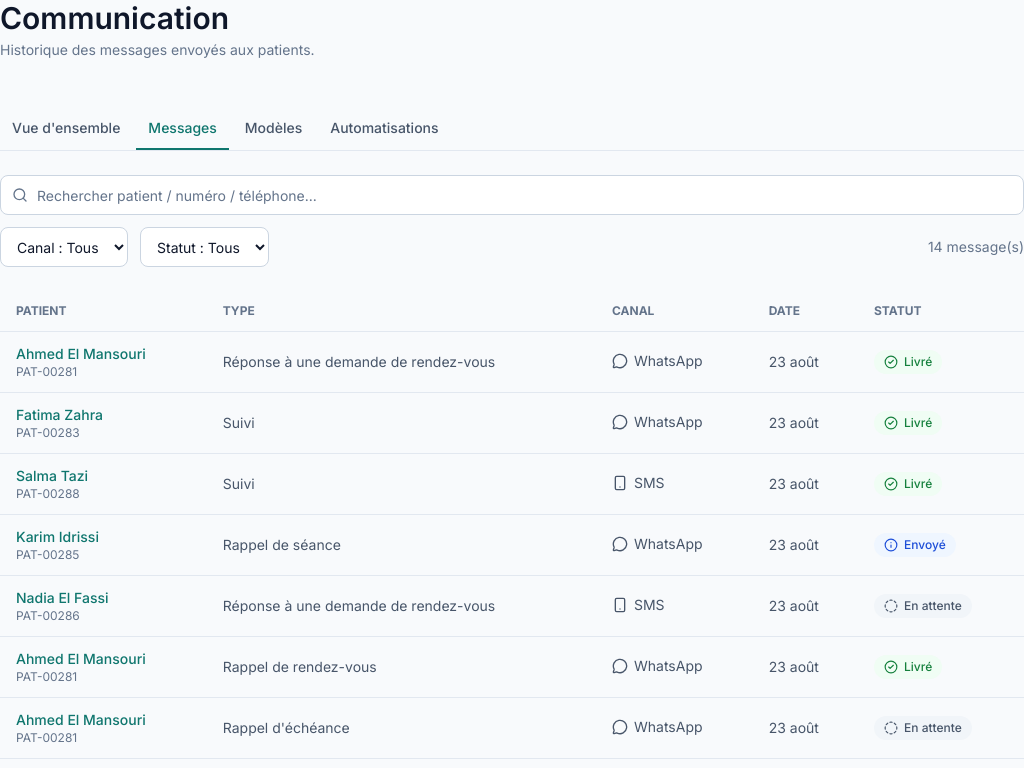
Test: MessagesPage › retrying a failed message re-queues it, closes the drawer, and updates the list
The image size is (1024, 768).
Select "Échec" in the dropdown named "Filtrer par statut" at point(204, 247), box top-left (140, 227), bottom-right (269, 267)
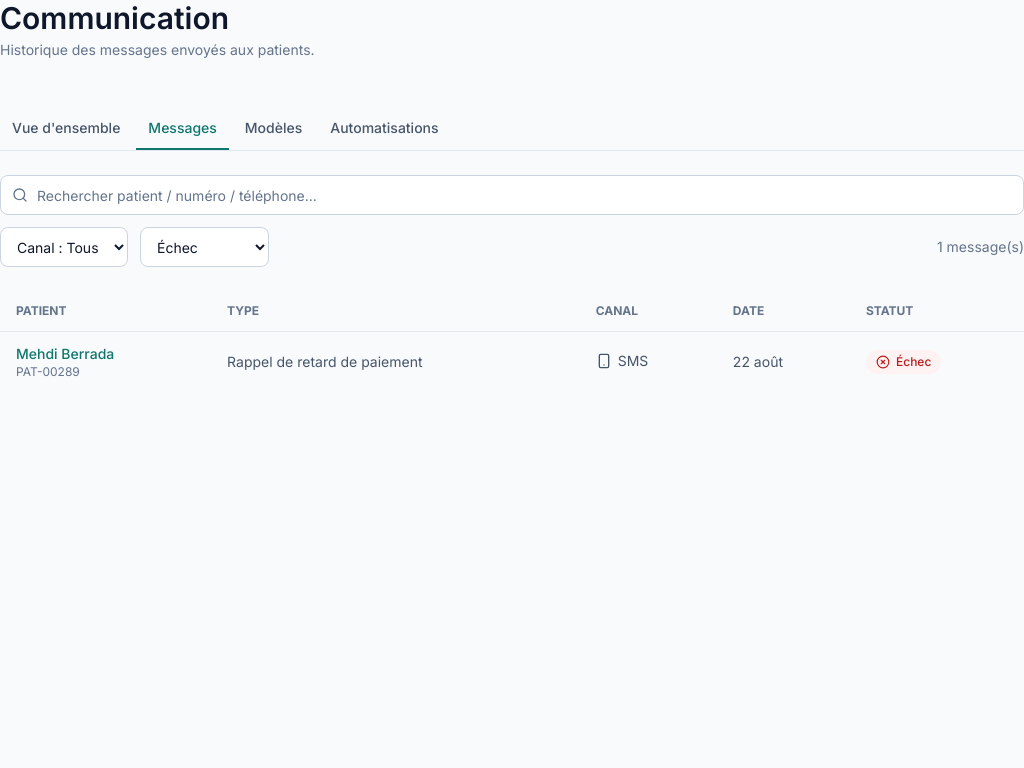
Click the button "Mehdi Berrada" at point(65, 354), box top-left (16, 344), bottom-right (114, 364)
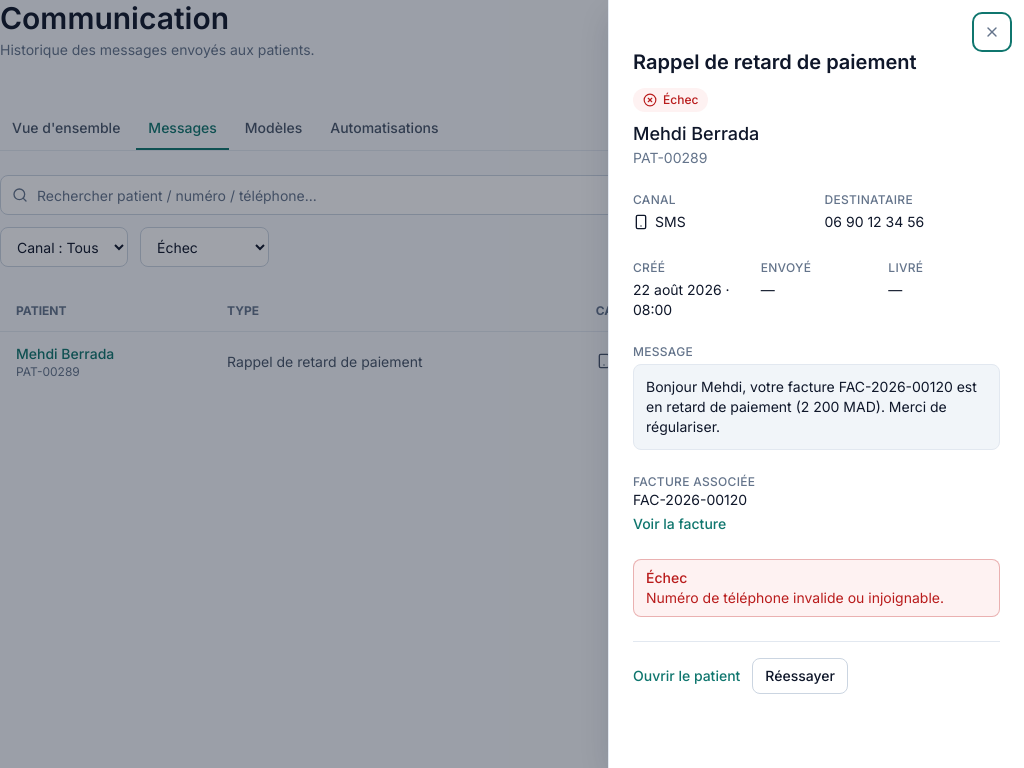
Click the button "Réessayer" at point(800, 676), box top-left (752, 658), bottom-right (848, 694)
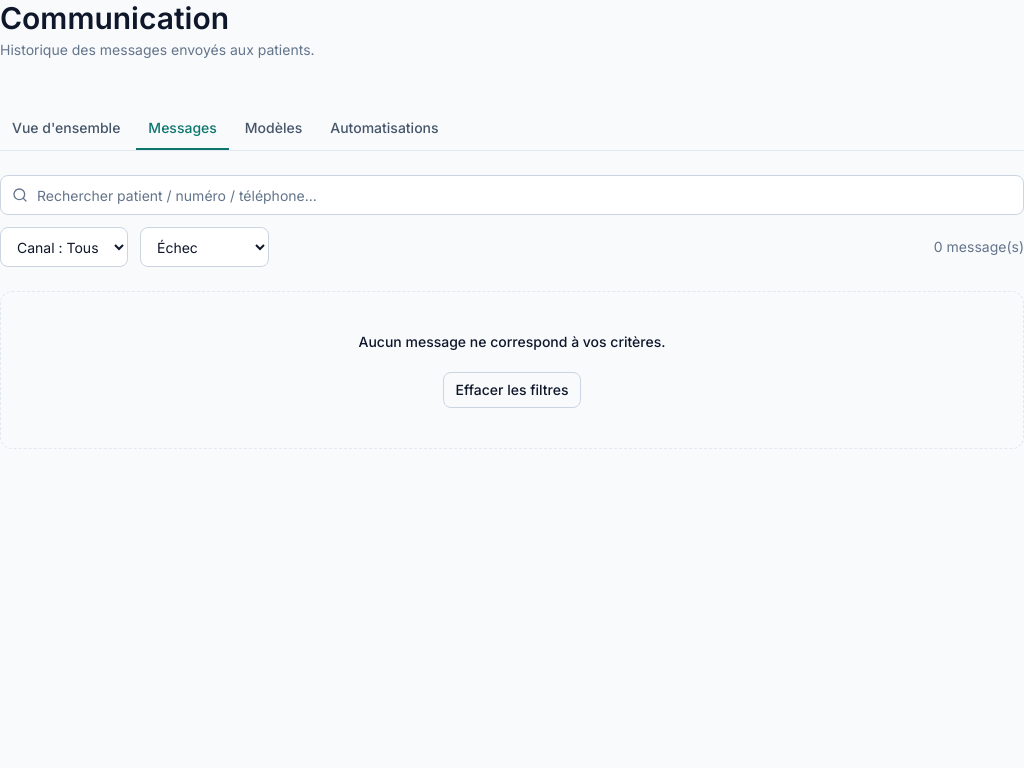
Result: the dialog is gone
Result: the button "Mehdi Berrada" is gone
Select "En attente" in the dropdown named "Filtrer par statut" at point(204, 247), box top-left (140, 227), bottom-right (269, 267)
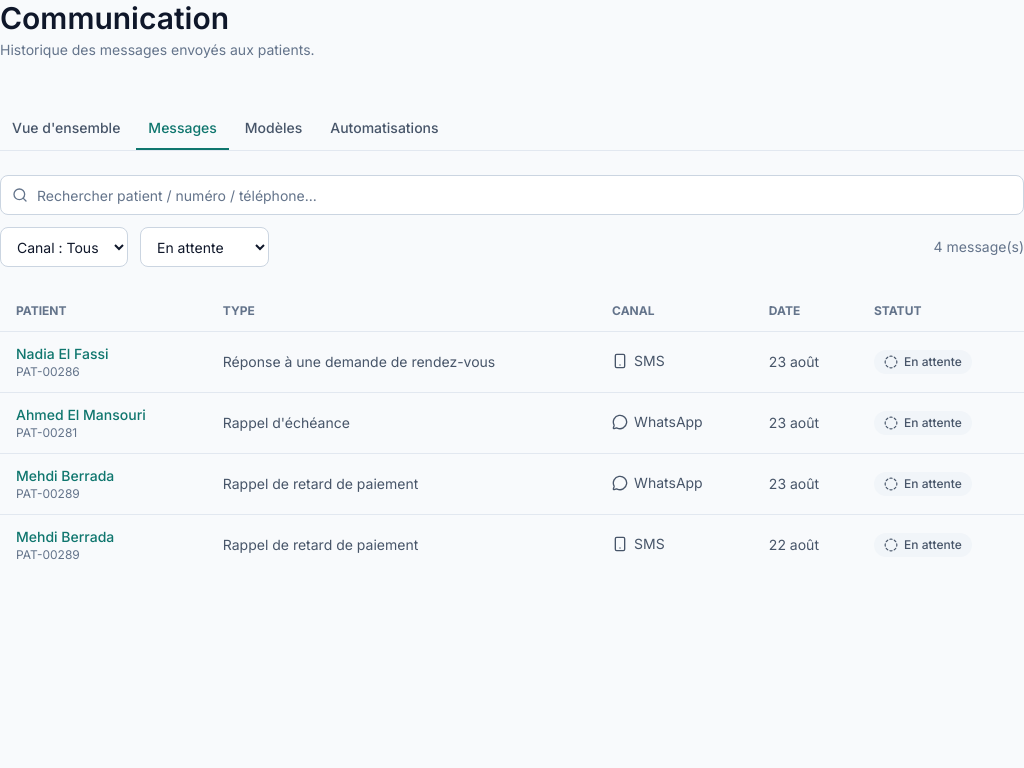
Result: the number of buttons "Mehdi Berrada" is 2 at top-left (16, 466), bottom-right (114, 486); top-left (16, 527), bottom-right (114, 547)
